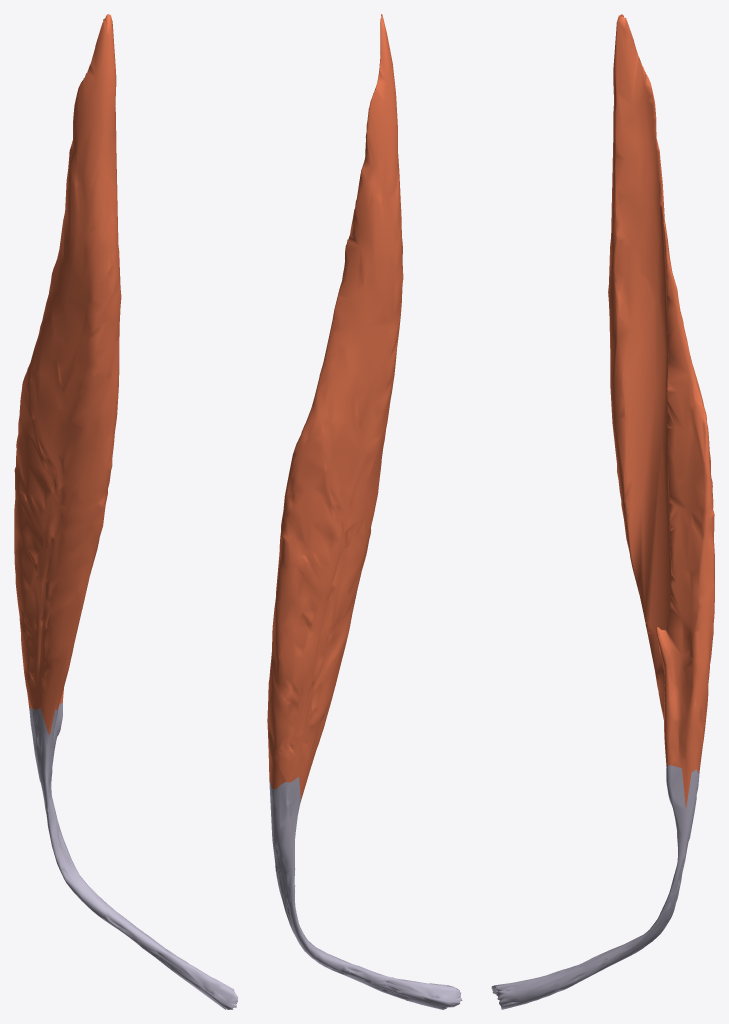
Rendered from Fibularis_brevis.r_Generated_Mesh_From_X3D.859.glb.
The picture shows the model from 3 angles, left to right: view 1: azimuth 90°, elevation 25°; view 2: azimuth 150°, elevation 25°; view 3: azimuth 270°, elevation 25°; orthographic projection. The views are drawn at different scales.
Visible parts, largest first — view 1: Fibularis_brevis.r_Generated_Mesh_From_X3D.859; view 2: Fibularis_brevis.r_Generated_Mesh_From_X3D.859; view 3: Fibularis_brevis.r_Generated_Mesh_From_X3D.859.
Boxes of the visible parts, bbox=[...] form: Fibularis_brevis.r_Generated_Mesh_From_X3D.859: bbox=[14, 14, 237, 1009]; Fibularis_brevis.r_Generated_Mesh_From_X3D.859: bbox=[267, 14, 462, 1009]; Fibularis_brevis.r_Generated_Mesh_From_X3D.859: bbox=[491, 14, 714, 1009].
Size of the model in its own units: 0.0274 by 0.2689 by 0.0549.
